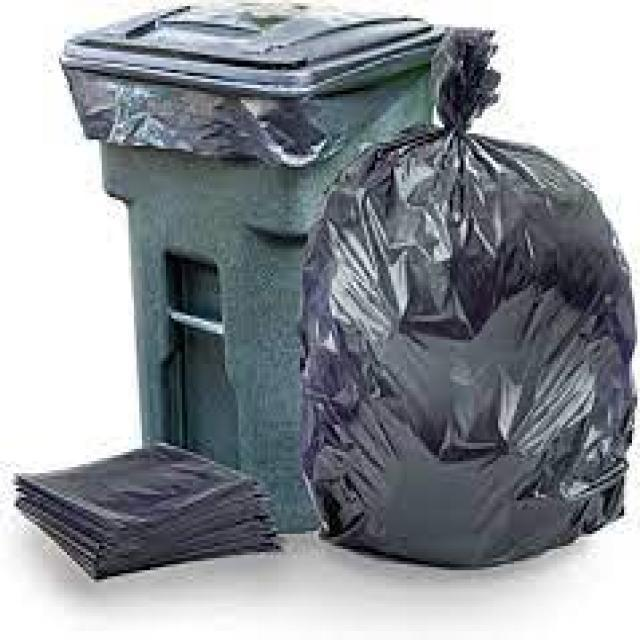garbage: (302, 100, 638, 561)
